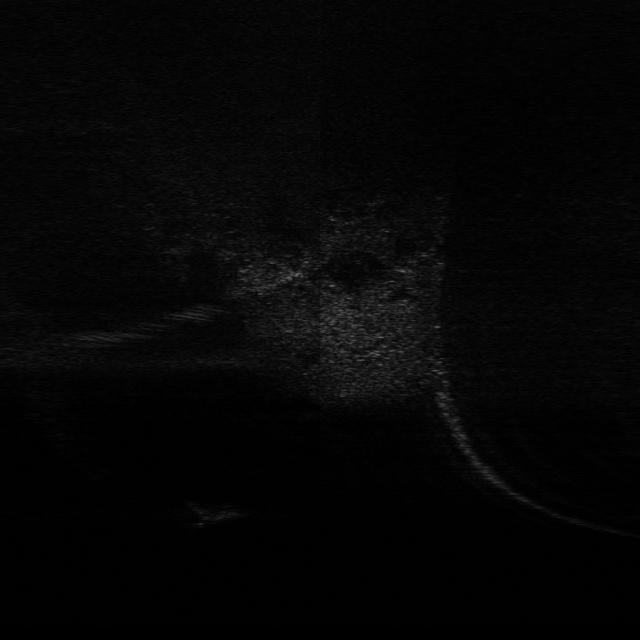cube: (183, 497, 247, 525)
